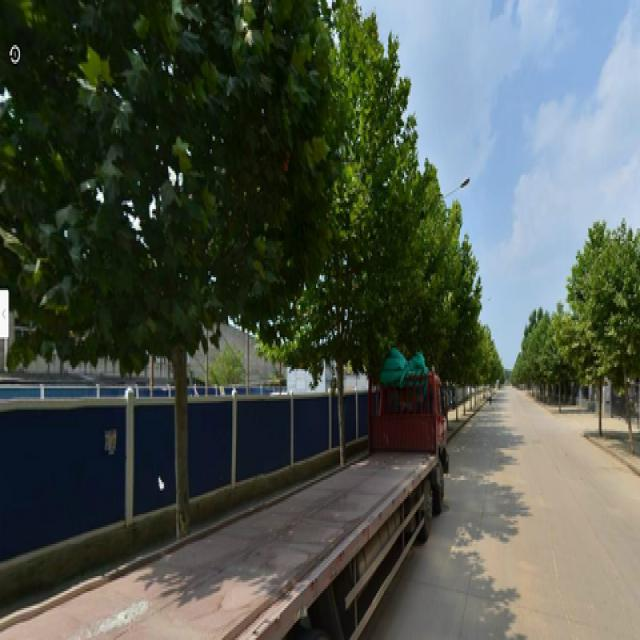meta: (47, 11, 216, 524), (314, 34, 374, 461), (595, 247, 636, 444)
